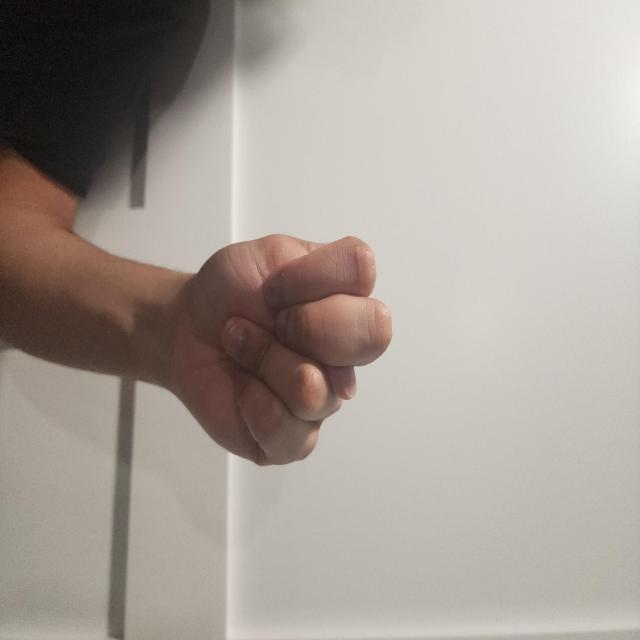N: (327, 319, 518, 640)
